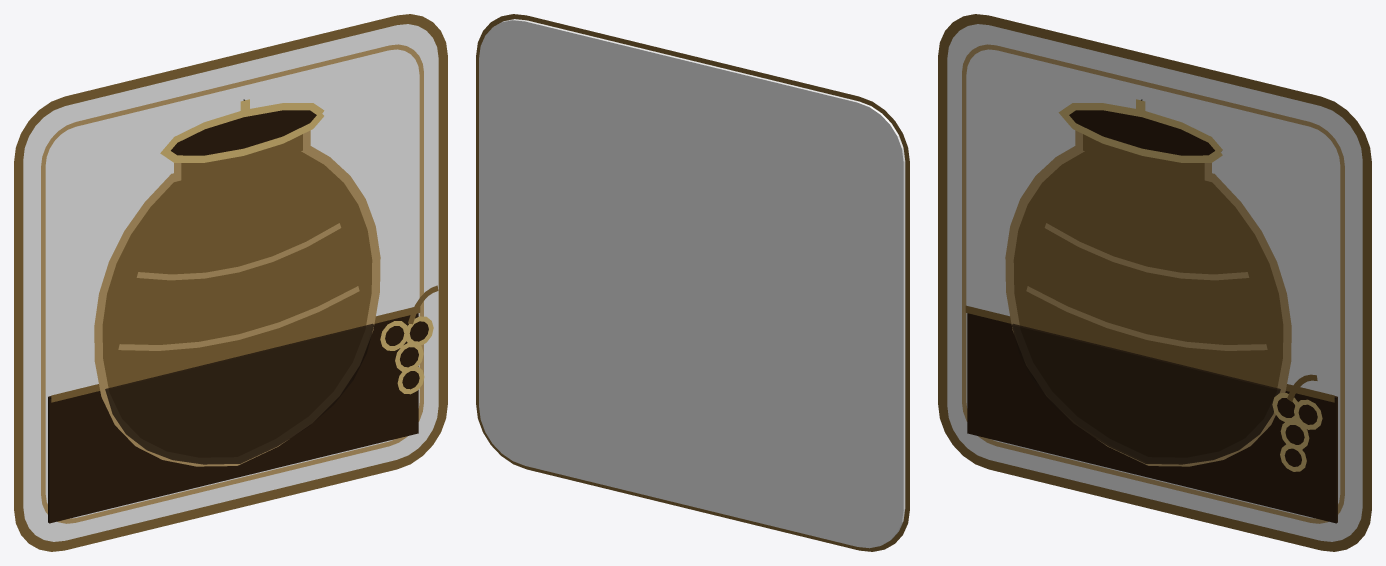
Rendered from obj-karas-kuvshin.glb.
3 views of the same model, side by side, from view 1: azimuth 30°, elevation 25°; view 2: azimuth 150°, elevation 25°; view 3: azimuth 330°, elevation 25° (orthographic).
Parts seen in each view (by area): view 1: obj-karas-kuvshin; view 2: obj-karas-kuvshin; view 3: obj-karas-kuvshin.
Boxes of the visible parts, box(x1,y1,x2,y2) form: obj-karas-kuvshin: box(14, 14, 447, 551); obj-karas-kuvshin: box(476, 14, 909, 551); obj-karas-kuvshin: box(938, 14, 1371, 551).
Size of the model in its own units: 0.3917 by 0.3917 by 0.0376.
